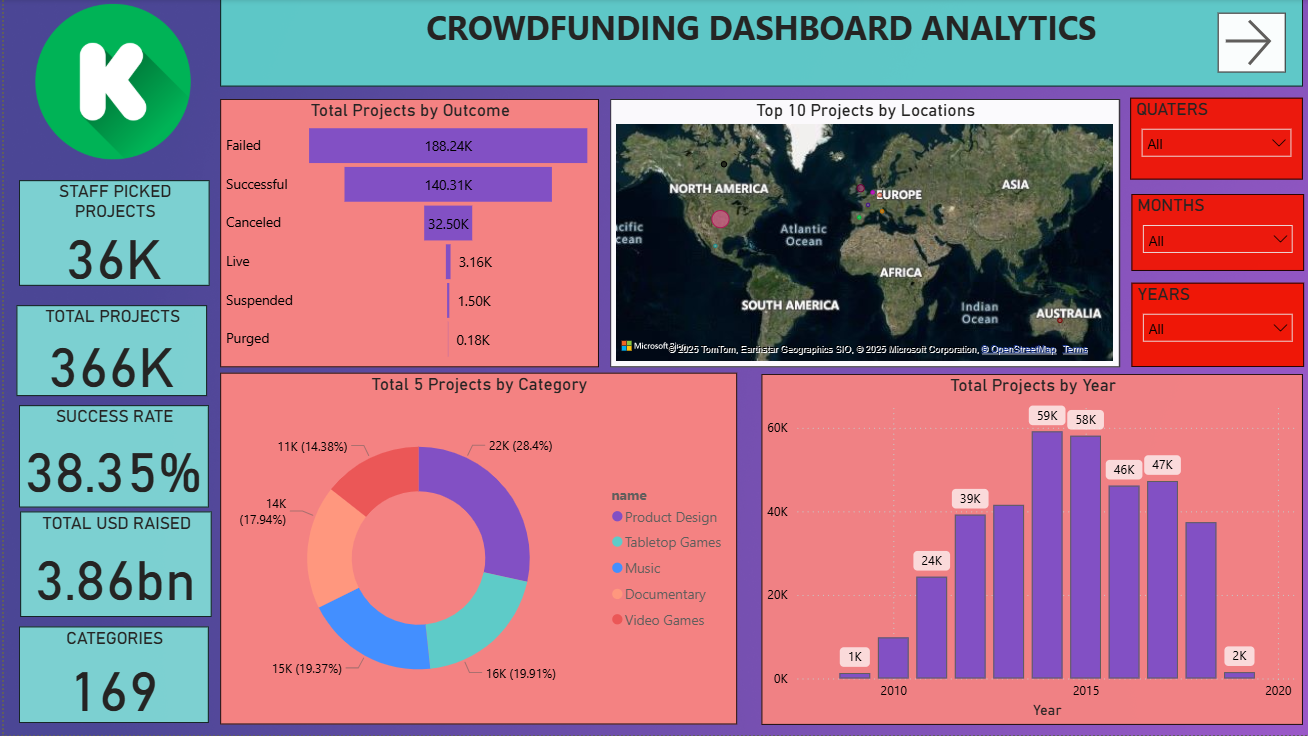

This screenshot's page, from the dashboard's own definition file:
{"tool":"powerbi","page":{"name":"Overview","canvas":[1280,720],"ordinal":0},"visuals":[{"type":"textbox","box":[211.6,0,1059,85.6],"z":0},{"type":"slicer","title":"YEARS","fields":{"Values":["Calender_Table.Date.Variation.Date Hierarchy.Year"]},"box":[1103.3,277.2,168.8,82.3],"z":1000},{"type":"slicer","title":"QUATERS","fields":{"Values":["Calender_Table.Date.Variation.Date Hierarchy.Quarter"]},"box":[1101.4,97.1,168.6,80],"z":2000},{"type":"slicer","title":"MONTHS","fields":{"Values":["Calender_Table.Date.Variation.Date Hierarchy.Month"]},"box":[1103.3,190.7,168.8,75.5],"z":3000},{"type":"card","title":"TOTAL PROJECTS","fields":{"Values":["Project.Total Projects"]},"box":[12.3,299.1,186.6,89.2],"z":4000},{"type":"card","title":"CATEGORIES","fields":{"Values":["Count(Project.category_id)"]},"box":[14.3,614.3,185.7,94.3],"z":5000},{"type":"card","title":"STAFF PICKED PROJECTS","fields":{"Values":["Project.Staff Picked Projects"]},"box":[15.1,177,186.6,102.9],"z":6000},{"type":"card","title":"SUCCESS RATE","fields":{"Values":["Project.Success Rate %"]},"box":[14.3,397.1,185.7,100],"z":7000},{"type":"card","title":"TOTAL USD RAISED","fields":{"Values":["Project.Total Amount Raised"]},"box":[15.7,501.4,187.1,102.9],"z":8000},{"type":"funnel","title":"Total Projects by Outcome","fields":{"Y":["Project.Total Projects"],"Category":["Project.state"]},"box":[211.3,97.4,370.5,262.1],"z":9000},{"type":"map","title":"Top 10 Projects by Locations","fields":{"Category":["Project.country"],"Size":["Project.Total Projects"]},"box":[592.8,97.4,498.1,262.1],"z":10000},{"type":"donutChart","title":"Total 5 Projects by Category","fields":{"Y":["Project.Total Projects"],"Category":["Category.name"]},"box":[211.4,365.7,505.7,344.3],"z":11000},{"type":"lineClusteredColumnComboChart","fields":{"Y":["Project.Total Projects"],"Category":["Calendar_Table.Date.Variation.Date Hierarchy.Year","Calendar_Table.Date.Variation.Date Hierarchy.Quarter","Calendar_Table.Date.Variation.Date Hierarchy.Month","Calendar_Table.Date.Variation.Date Hierarchy.Day"]},"box":[741,366.4,529.7,343.1],"z":12000},{"type":"actionButton","box":[1187.4,13.5,66,58.7],"z":13000},{"type":"image","box":[15.1,0,183.9,161.9],"z":14000}]}

Visuals, with their boxes in screenshot pixels (x1, y1, x2, y2), scaled from the page's 1280x720 canvas onto the 1308x736 screenshot:
textbox: [216, 0, 1298, 88]
"YEARS" slicer: [1127, 283, 1300, 367]
"QUATERS" slicer: [1125, 99, 1298, 181]
"MONTHS" slicer: [1127, 195, 1300, 272]
"TOTAL PROJECTS" card: [13, 306, 203, 397]
"CATEGORIES" card: [15, 628, 204, 724]
"STAFF PICKED PROJECTS" card: [15, 181, 206, 286]
"SUCCESS RATE" card: [15, 406, 204, 508]
"TOTAL USD RAISED" card: [16, 513, 207, 618]
"Total Projects by Outcome" funnel: [216, 100, 595, 367]
"Top 10 Projects by Locations" map: [606, 100, 1115, 367]
"Total 5 Projects by Category" donutChart: [216, 374, 733, 726]
lineClusteredColumnComboChart - Project.Total Projects x Calendar_Table.Date.Variation.Date Hierarchy.Year: [757, 375, 1298, 725]
actionButton: [1213, 14, 1281, 74]
image: [15, 0, 203, 165]
